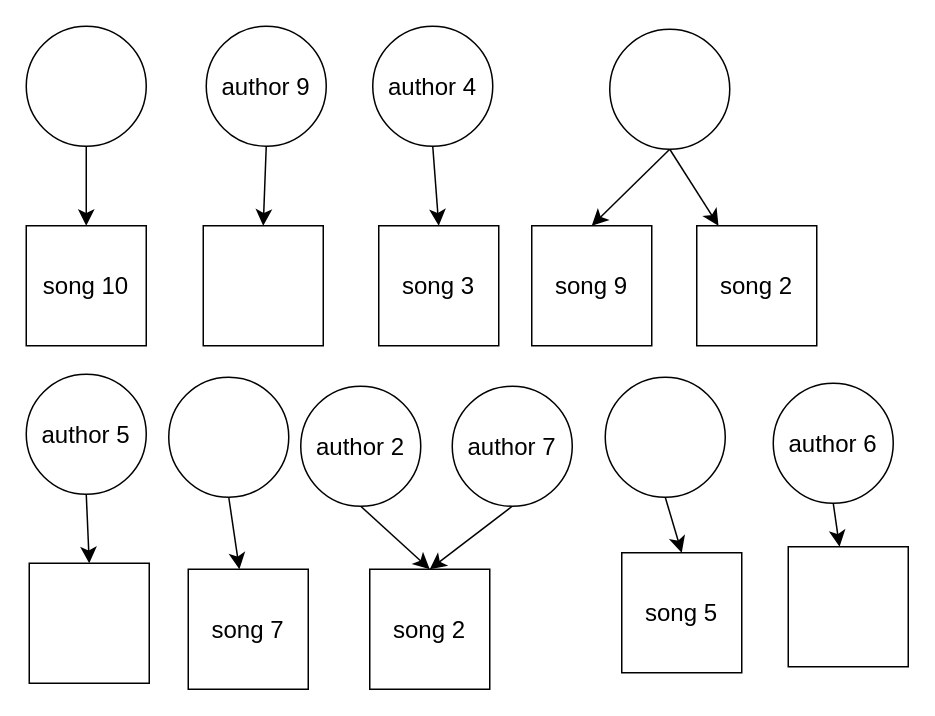
This 935x716 diagram has some shape labels left out. Each missing label, with the box of its shape:
author 1: (608, 28, 730, 149)
author 10: (25, 25, 146, 146)
author 3: (604, 376, 725, 497)
author 8: (167, 376, 289, 497)
song 1: (28, 562, 149, 683)
song 4: (787, 545, 908, 667)
song 8: (202, 224, 323, 346)
